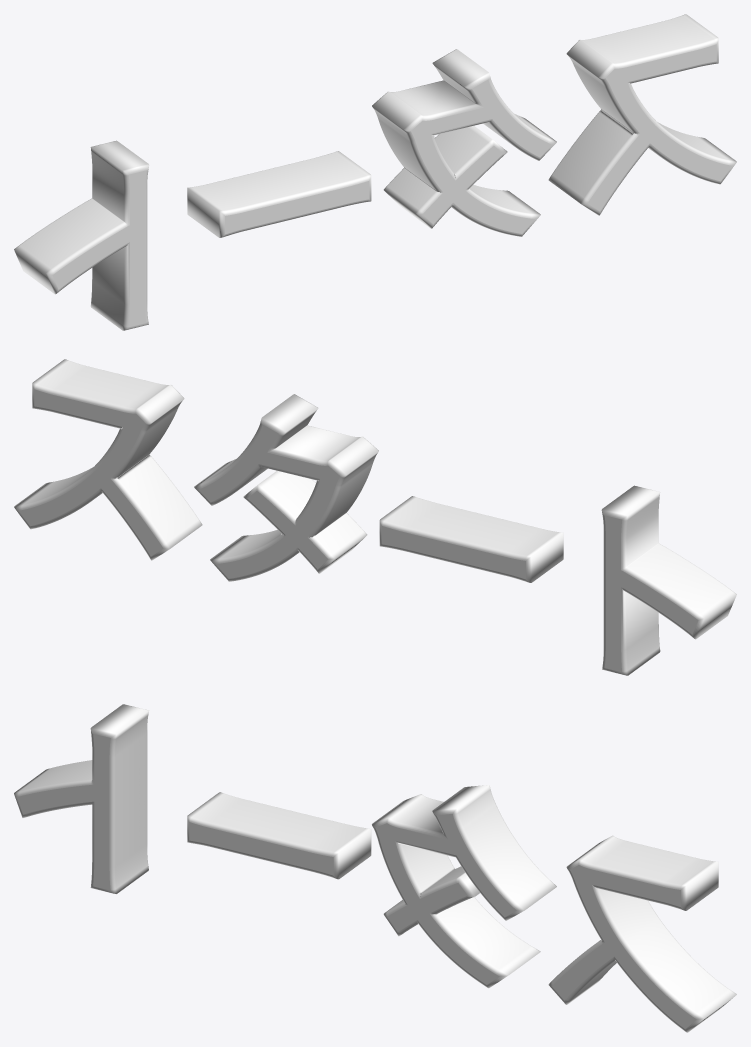
Rendered from start.obj.
The picture shows the model from 3 angles, top to bottom: view 1: azimuth 30°, elevation 25°; view 2: azimuth 150°, elevation 25°; view 3: azimuth 330°, elevation 25°; orthographic projection.
Parts seen in each view (by area): view 1: テキスト.004; view 2: テキスト.004; view 3: テキスト.004.
Part boxes in pixels (x1,y1,x2,y2): テキスト.004: [14, 14, 736, 330]; テキスト.004: [14, 359, 736, 675]; テキスト.004: [14, 704, 736, 1032].
Bounding box in the file's own units: 3.81 × 0.9065 × 0.34.
1 material, 1 textured.
